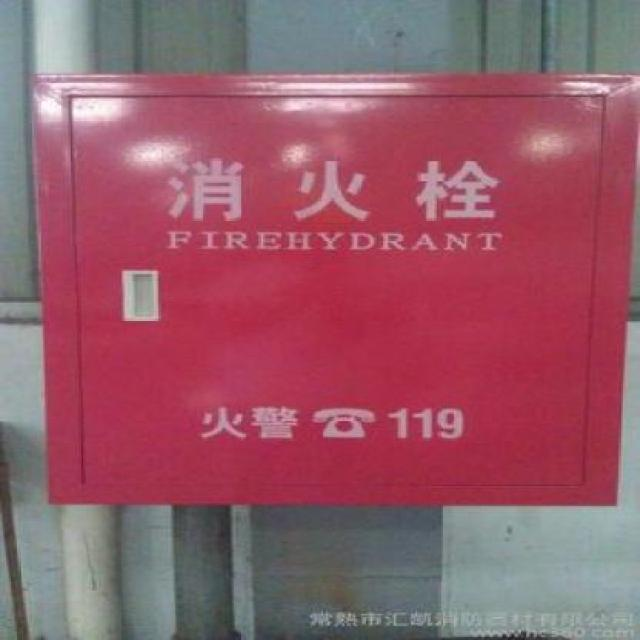firehydrant: (21, 64, 640, 511)
